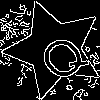Q: (29, 24, 93, 87)
